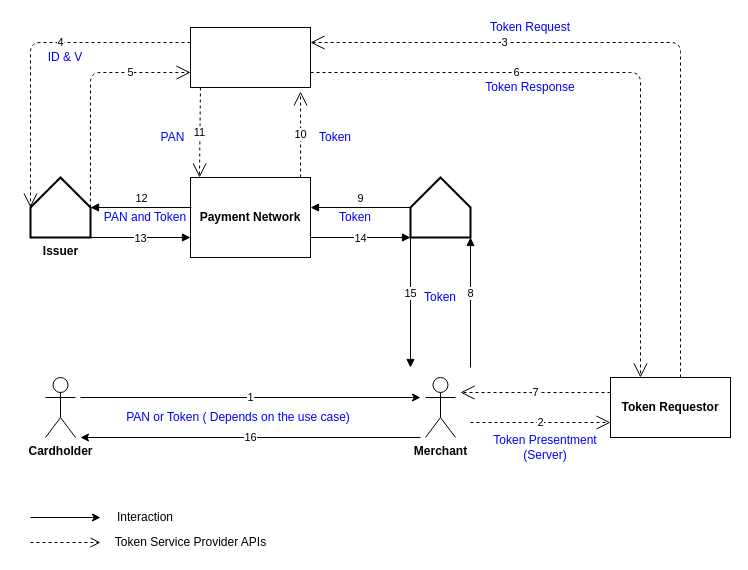
This 748x570 diagram has some shape labels left out. Here are the shapes that lost their labels. From the top down, the centre of each, then its label:
At [250,57]: "Token Service Provider".
At [440,207]: "Acquirer".
